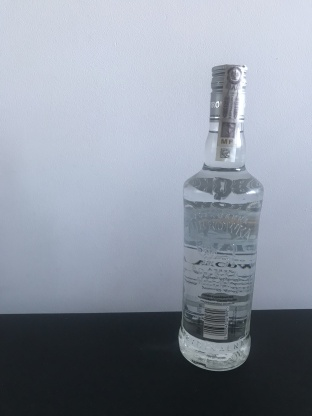nakretka: (207, 60, 250, 124)
